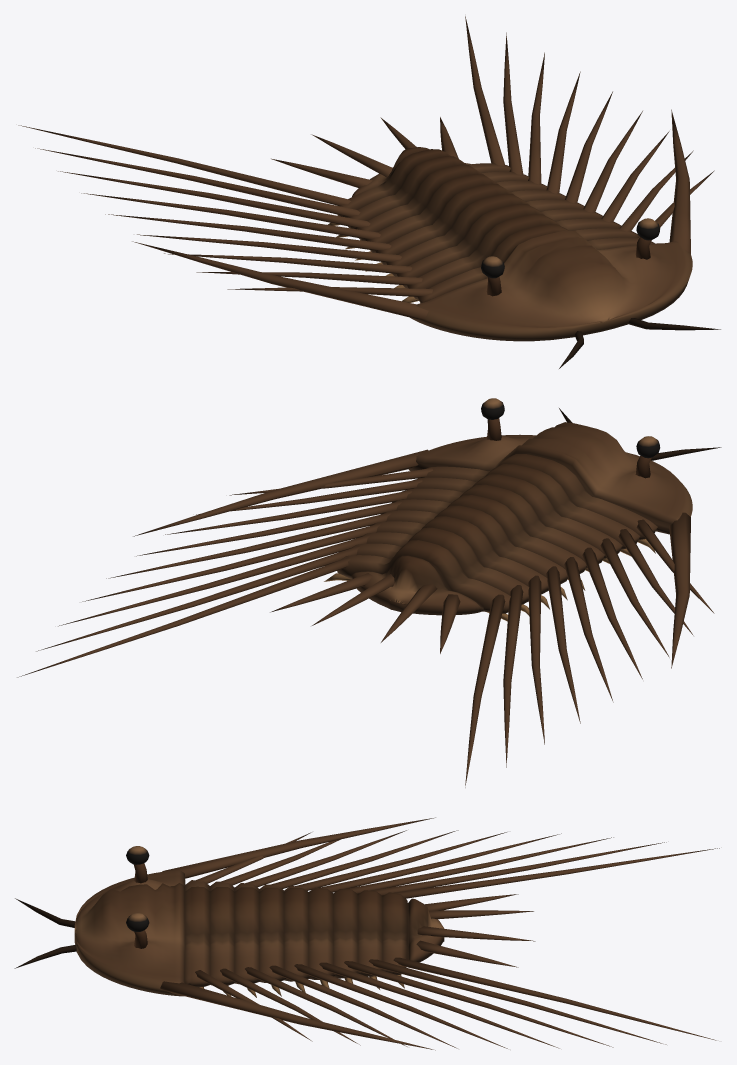
Rendered from SelenopeltisBuchii.fbx.
The picture shows the model from 3 angles, top to bottom: view 1: azimuth 30°, elevation 25°; view 2: azimuth 150°, elevation 25°; view 3: azimuth 270°, elevation 25°; orthographic projection. The views are drawn at different scales.
Visible parts, largest first — view 1: SelenopeltisBuchii; view 2: SelenopeltisBuchii; view 3: SelenopeltisBuchii.
Boxes of the visible parts, x1,y1,x2,y2 form: SelenopeltisBuchii: [18, 16, 720, 368]; SelenopeltisBuchii: [17, 398, 721, 787]; SelenopeltisBuchii: [14, 817, 719, 1050].
Size of the model in its own units: 1.64 by 0.2204 by 2.11.
